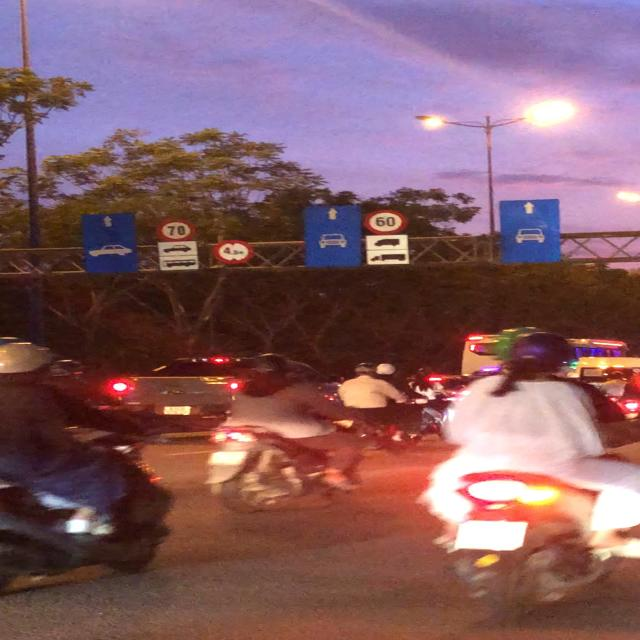Bien bao han che chieu cao: (214, 238, 260, 266)
Bien bao toc do toi da cho phep: (364, 206, 409, 235), (152, 217, 198, 242)
